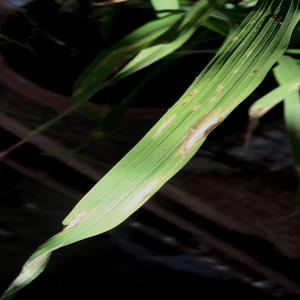1 RiceBlast: (176, 100, 232, 153)
